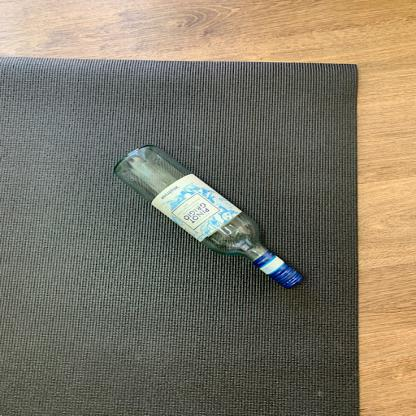trash: (111, 136, 303, 289)
